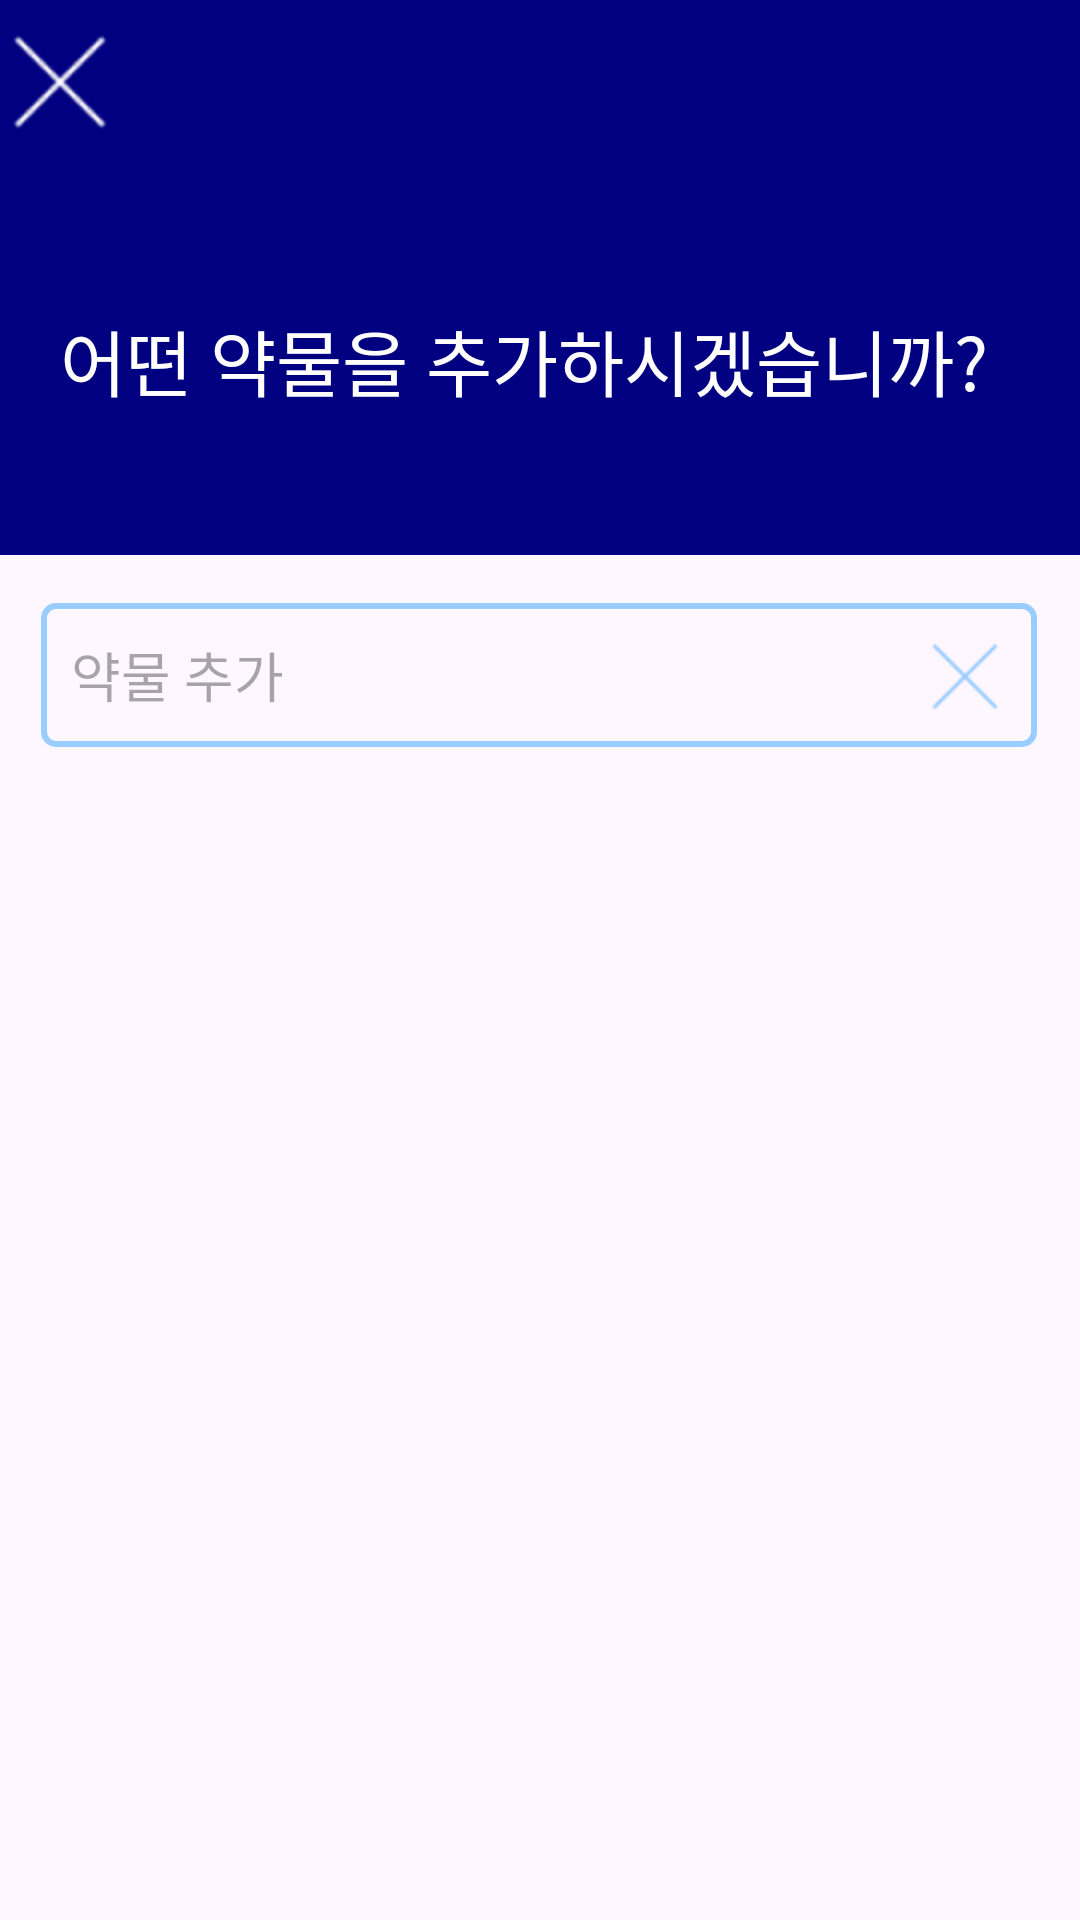

Screen size 1080w x 1920h. Icon name, then its center in pixels as point (x, y):
close: point (60, 82), point (965, 676)
